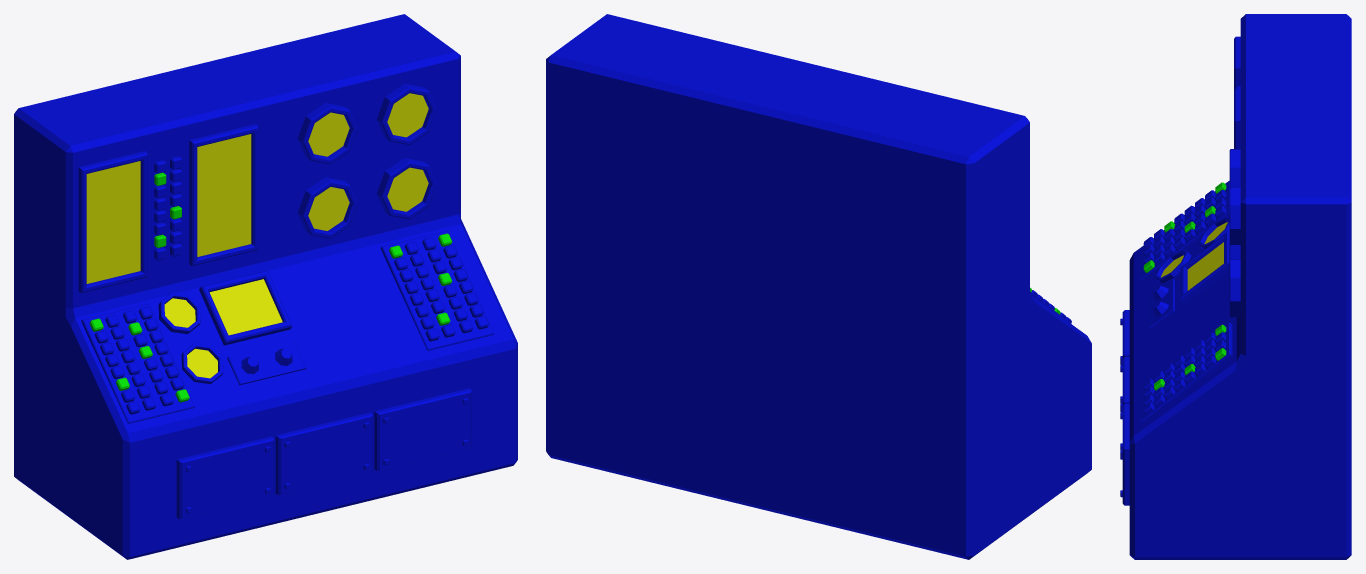
File: Big_Terminal.fbx
3 views of the same model, side by side, from view 1: azimuth 30°, elevation 25°; view 2: azimuth 150°, elevation 25°; view 3: azimuth 270°, elevation 25° (orthographic). The views are drawn at different scales.
Visible parts, largest first — view 1: Big_Terminal_poly; view 2: Big_Terminal_poly; view 3: Big_Terminal_poly.
Part boxes in pixels (box(x1,y1,x2,y2)): Big_Terminal_poly: box(14, 14, 517, 559); Big_Terminal_poly: box(546, 14, 1091, 559); Big_Terminal_poly: box(1120, 14, 1351, 559).
Bounding box in the file's own units: 200 × 180 × 104.
